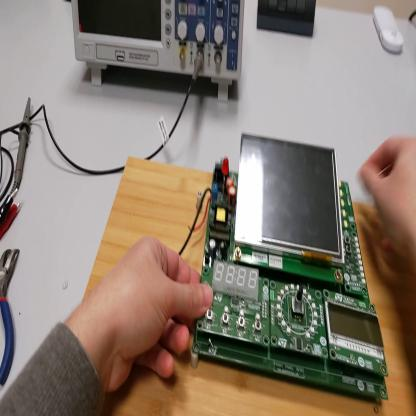hand: (93, 236, 214, 395), (359, 136, 416, 261)
low voltage board: (173, 135, 390, 403)
oscilloscope: (72, 1, 247, 104)
oscilloscope probe tip: (14, 99, 33, 192)
pliers: (2, 248, 20, 385)
working area: (84, 154, 416, 416)
